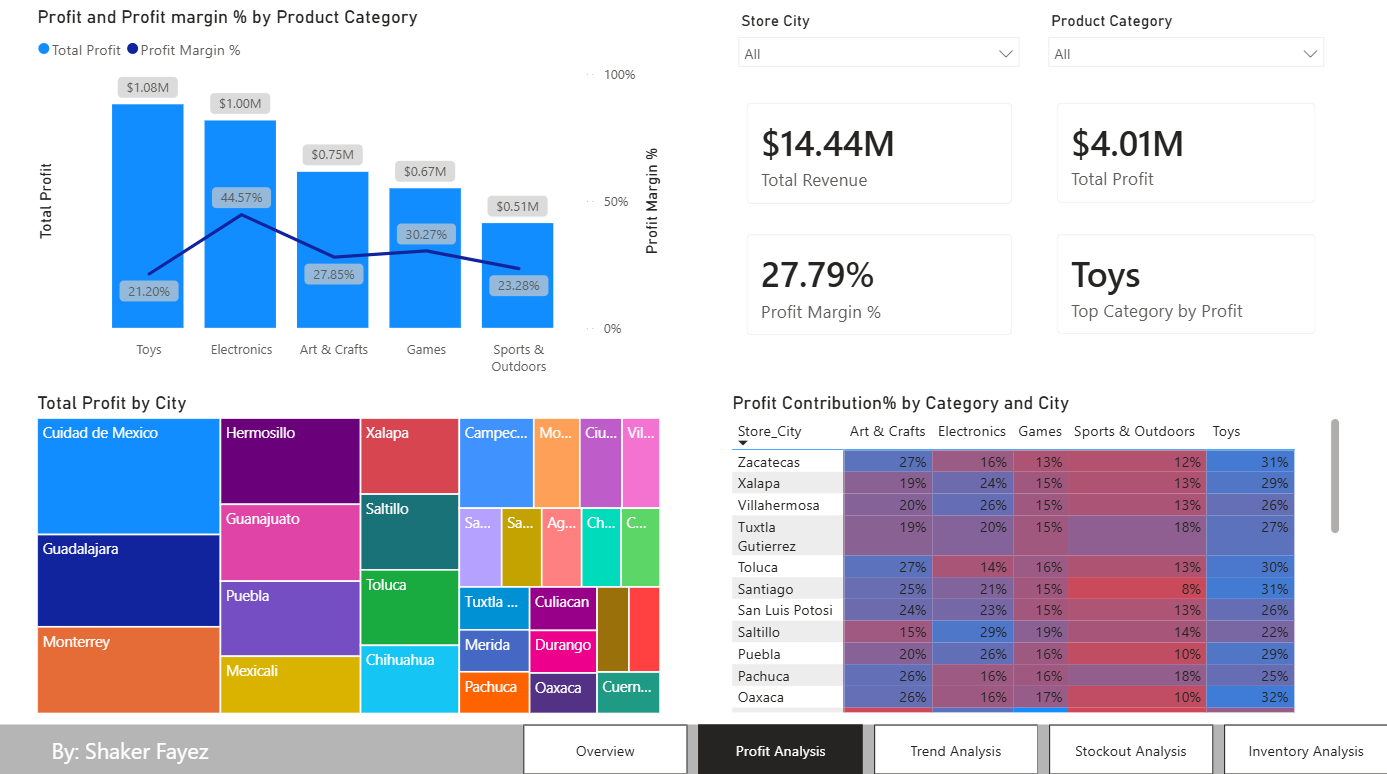

The dashboard page shown, as its layout file describes it:
{"tool":"powerbi","page":{"name":"Profit Analysis","canvas":[1280,720],"ordinal":1},"visuals":[{"type":"lineClusteredColumnComboChart","title":"Profit and Profit margin % by Product Category","fields":{"Category":["products.Product_Category"],"Y":["_Measures.Total Profit"],"Y2":["_Measures.Profit Margin %"]},"box":[32.2,12.6,582.4,346.9],"z":0},{"type":"treemap","title":"Total Profit by City","fields":{"Values":["_Measures.Total Profit"],"Group":["stores.Store_City","products.Product_Category"]},"box":[31.8,368.2,582.2,300.6],"z":1000},{"type":"cardVisual","title":"Total Profit","fields":{"Data":["_Measures.Top Category by Profit"]},"box":[956.7,205.8,272.6,126.1],"z":2000},{"type":"cardVisual","title":"Total Profit","fields":{"Data":["_Measures.Total Revenue"]},"box":[671.6,84.8,279,127.4],"z":3000},{"type":"cardVisual","title":"Total Profit","fields":{"Data":["_Measures.Profit Margin %"]},"box":[671.6,205.8,279,127.4],"z":4000},{"type":"cardVisual","title":"Total Profit","fields":{"Data":["_Measures.Total Profit"]},"box":[956.7,84.8,272.6,126.1],"z":5000},{"type":"pivotTable","title":"Profit Contribution% by Category and City","fields":{"Columns":["products.Product_Category"],"Rows":["stores.Store_City"],"Values":["_Measures.Profit Contribution %"]},"box":[671.3,368.2,568.2,299.4],"z":6000},{"type":"shape","box":[0,673.3,1280.2,46.5],"z":7000},{"type":"pageNavigator","box":[483.5,673.3,796.5,46.5],"z":8000},{"type":"slicer","fields":{"Values":["stores.Store_Name"]},"box":[671.2,12.7,279.1,62.2],"z":8001},{"type":"slicer","fields":{"Values":["products.Product_Category"]},"box":[955.4,12.7,274.1,62.2],"z":8002}]}

Visuals, with their boxes in screenshot pixels (x1, y1, x2, y2), scaled from the page's 1280x720 canvas onto the 1387x774 screenshot:
"Profit and Profit margin % by Product Category" lineClusteredColumnComboChart: 35, 14, 666, 386
"Total Profit by City" treemap: 34, 396, 665, 719
"Total Profit" cardVisual: 1037, 221, 1332, 357
"Total Profit" cardVisual: 728, 91, 1030, 228
"Total Profit" cardVisual: 728, 221, 1030, 358
"Total Profit" cardVisual: 1037, 91, 1332, 227
"Profit Contribution% by Category and City" pivotTable: 727, 396, 1343, 718
shape: 0, 724, 1386, 773
pageNavigator: 524, 724, 1386, 773
slicer - stores.Store_Name: 727, 14, 1030, 81
slicer - products.Product_Category: 1035, 14, 1332, 81
